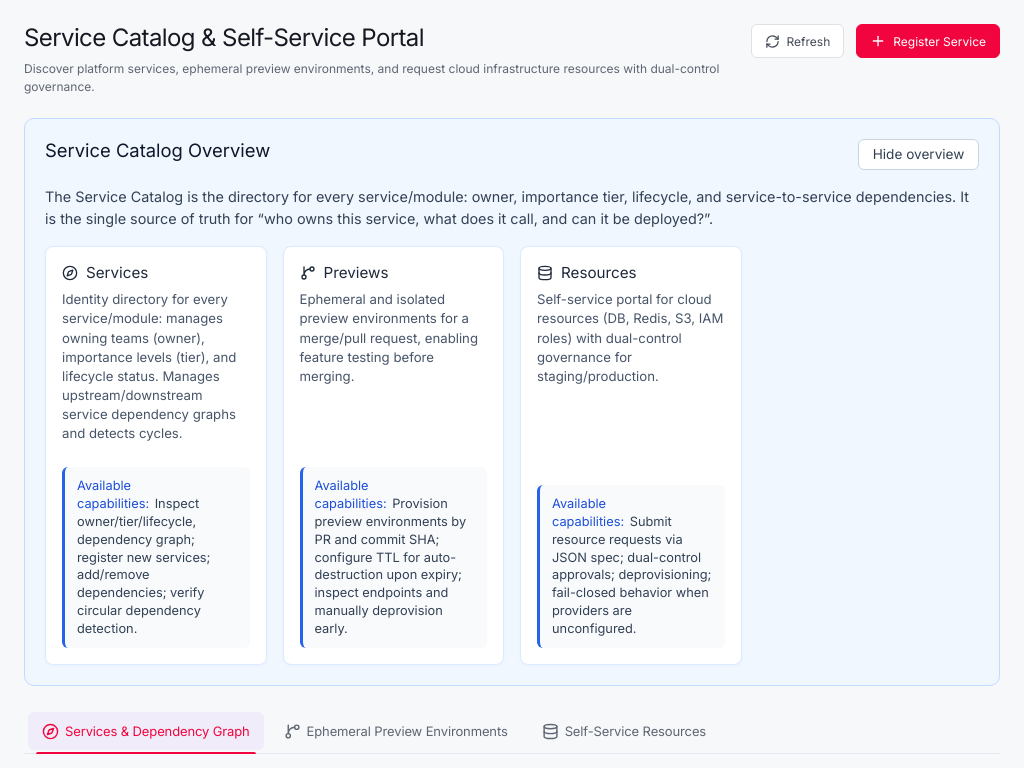
Catalog explanations, intro panel and contextual hints › toggles collapsible intro panel, hides/shows explanation and updates localStorage
The image size is (1024, 768).
Expected: the text "The Service Catalog is the directory for every service/module" is shown, x1=45 y1=188 x2=969 y2=227
Note: Click toggle to collapse
Click the button "Hide overview" at (919, 154), box x1=858 y1=139 x2=979 y2=170
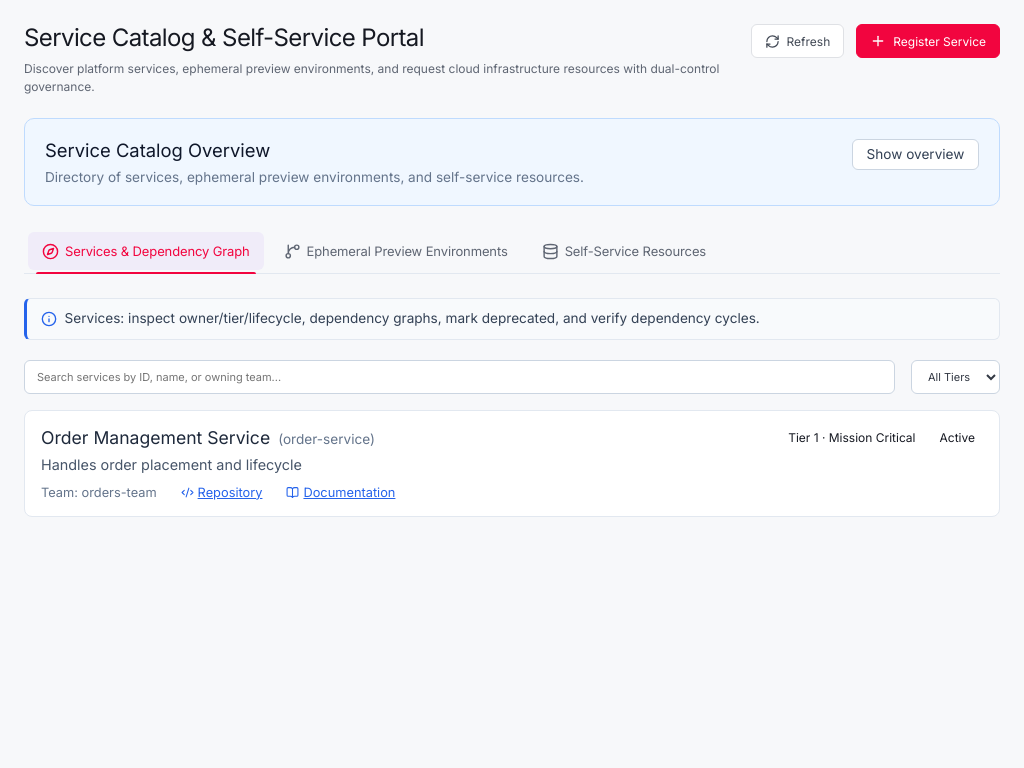
Expected: the button "Show overview" is shown
Expected: the text "The Service Catalog is the directory for every service/module" is gone
Note: Click toggle again to expand
Click the button "Show overview" at (915, 154), box x1=852 y1=139 x2=979 y2=170
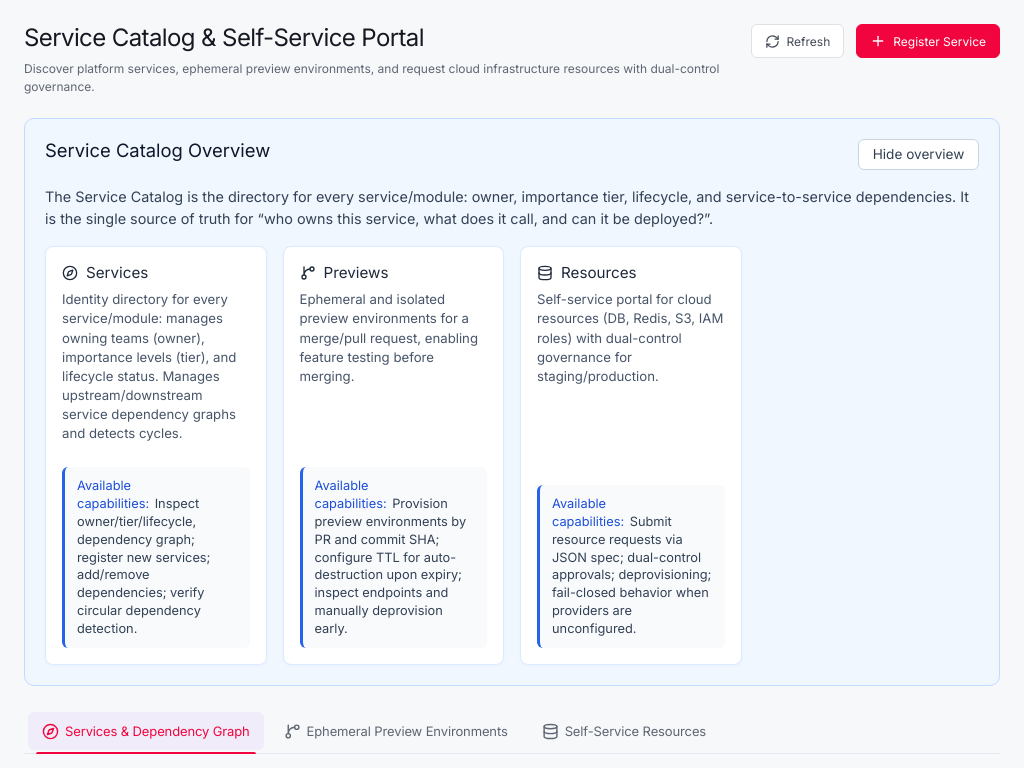
Expected: the button "Hide overview" is shown, x1=858 y1=139 x2=979 y2=170
Expected: the text "The Service Catalog is the directory for every service/module" is shown, x1=45 y1=188 x2=969 y2=227
